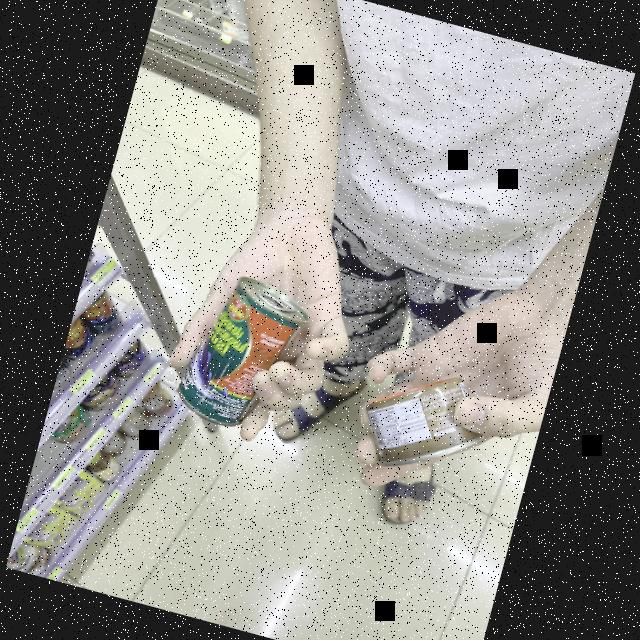can: (157, 251, 328, 443), (348, 350, 500, 501)
